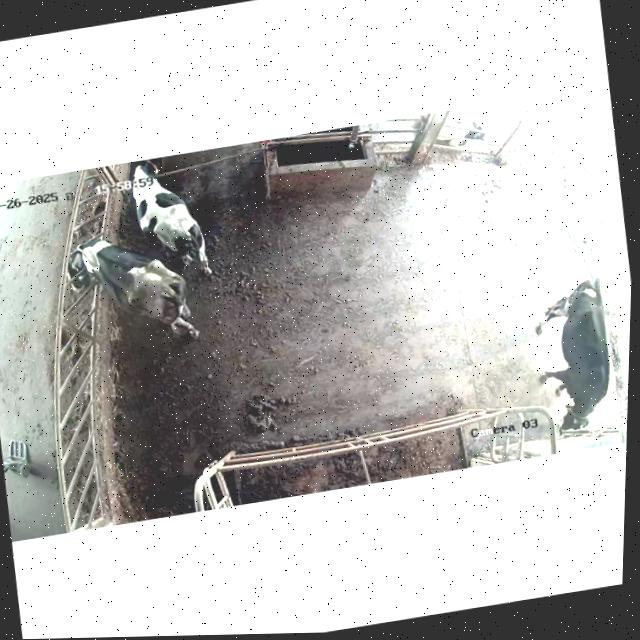stand: (519, 260, 631, 439), (122, 147, 230, 287)
